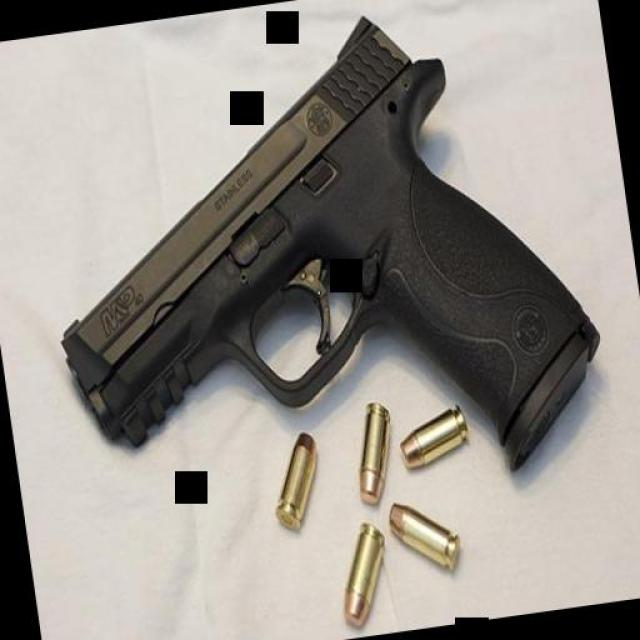gun: (19, 0, 615, 540)
